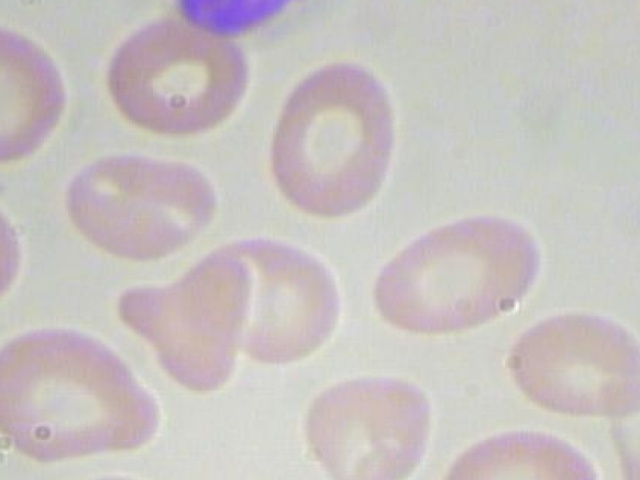RBC: (349, 204, 560, 344), (0, 321, 170, 464), (191, 223, 349, 370), (267, 58, 402, 226), (94, 15, 263, 137), (502, 282, 640, 429), (61, 144, 222, 266), (281, 368, 440, 480), (0, 18, 78, 167), (0, 183, 43, 324), (0, 0, 35, 3)
WBC: (76, 0, 422, 46)
